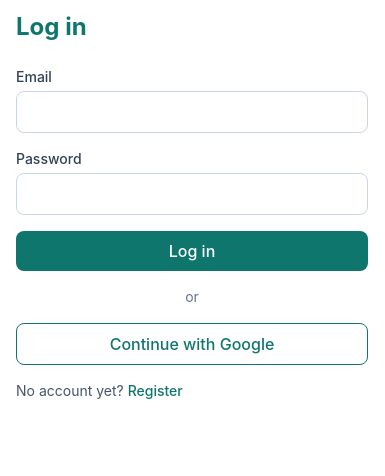
Test: Login page › shows a message when Google sign-in fails
What coordinates should you click on to do the following:
click the button "Continue with Google"
I would click on:
 (192, 344)
Its box is [16,323,368,365].
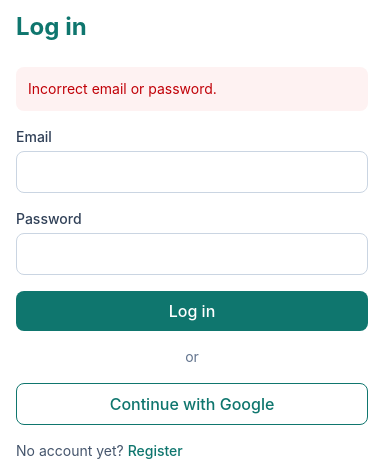
Now the message "Incorrect email or password." is shown, box [16,67,368,111]
